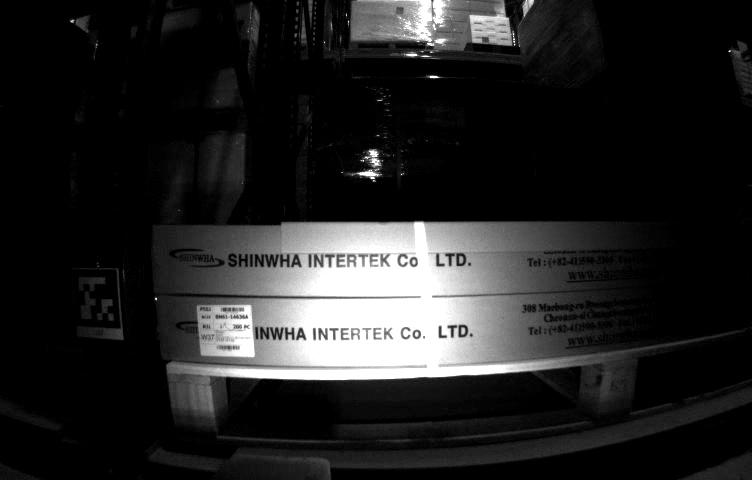True Barcode: (196, 304, 256, 358)
